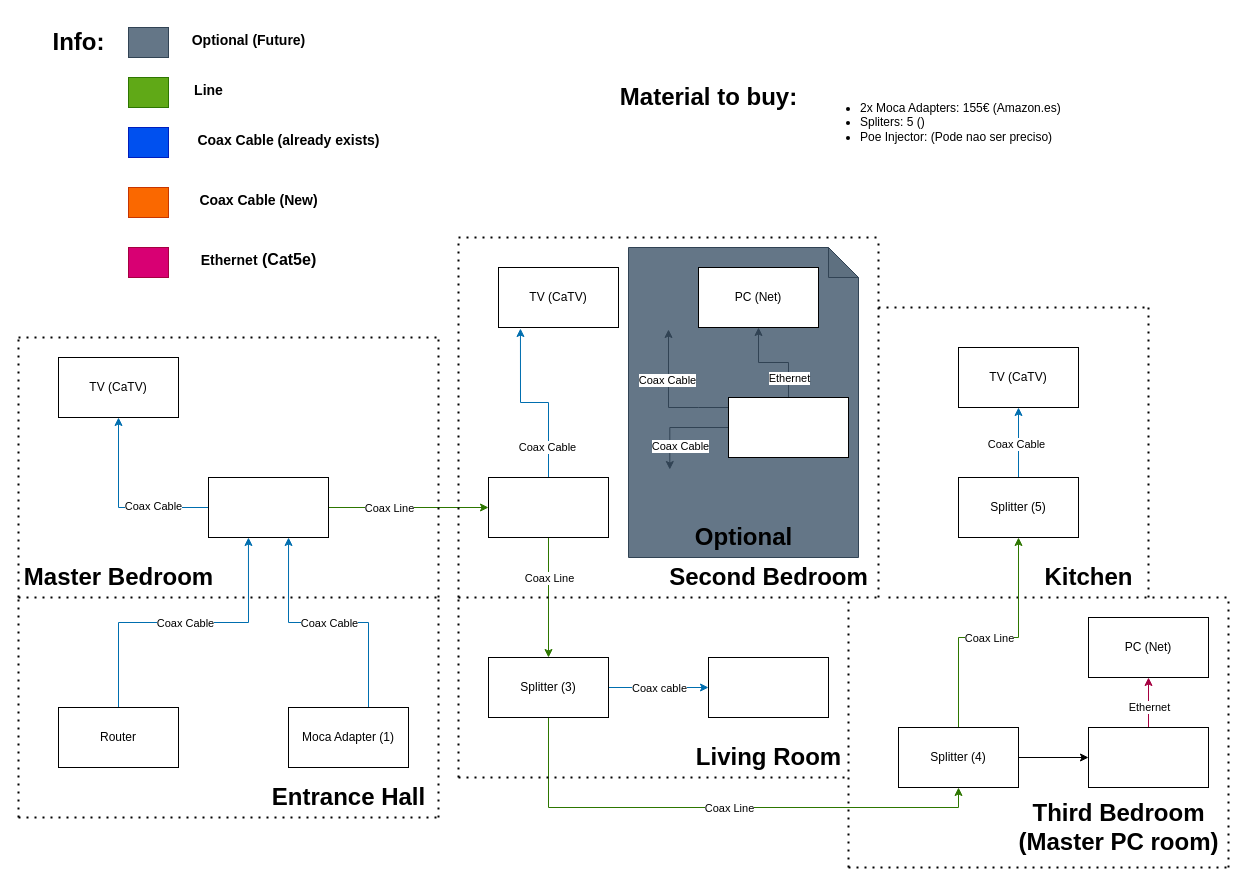
The diagram is 1247 pixels wide and 886 high, and some of its shapes have lost their labels. Each missing label, with the centre of its shape:
"Moca Adapter" goes at point (1148, 757).
"Moca Adapter (3) Future" goes at point (788, 427).
"Splitter(1)" goes at point (268, 507).
"Splitter(2)" goes at point (548, 507).
"TV Box" goes at point (768, 687).
